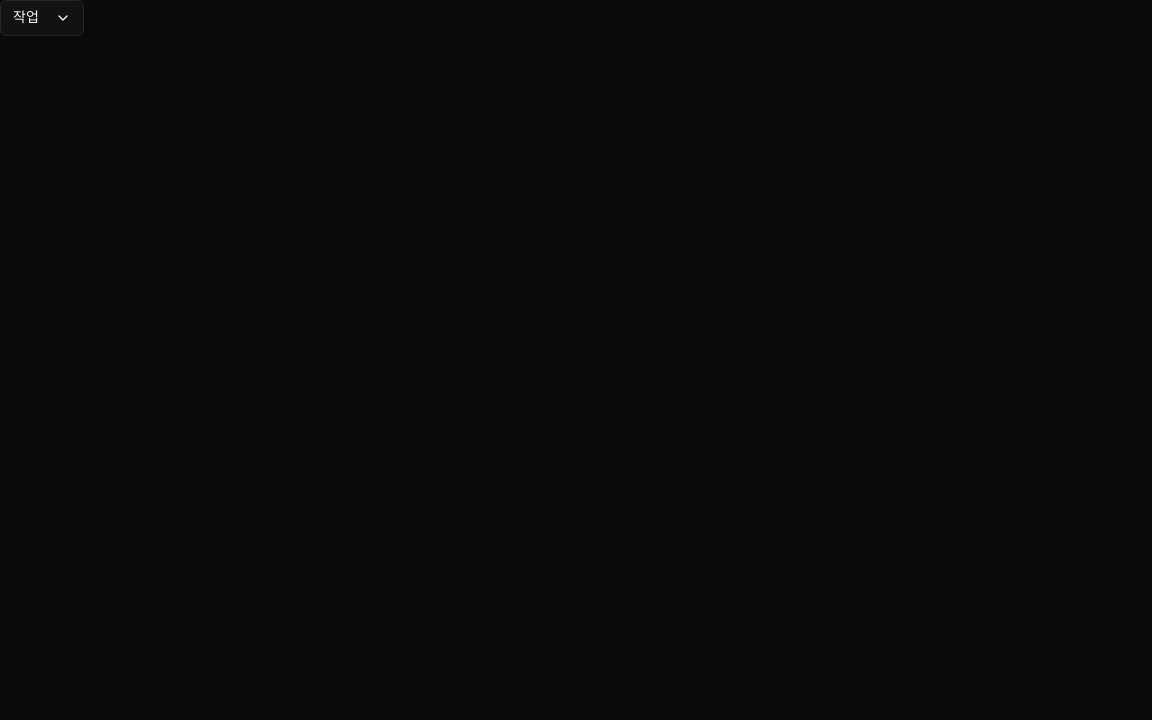
AdministratorsActionsDropdown — 활성 / 회수 / 멤버 부재 분기 › 활성 + 권한 회수 클릭 → 회수 dialog open
Click the button "작업". click: (42, 18)
box: [0, 0, 84, 36]
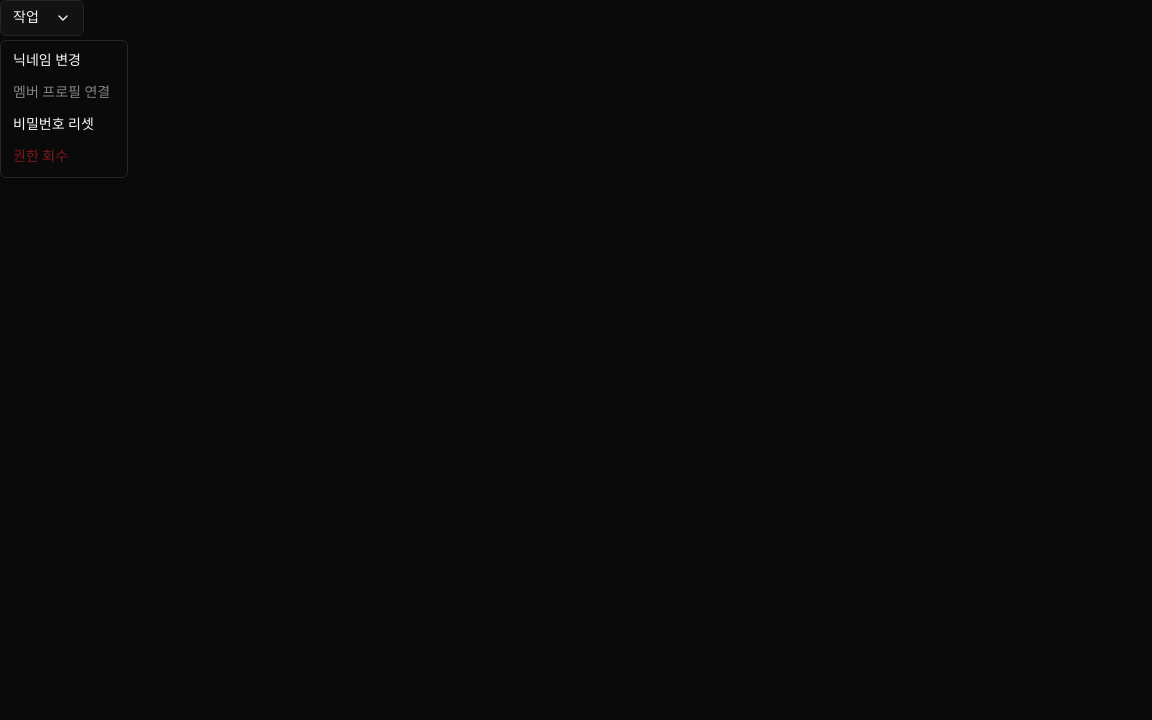
Click the menu item "권한 회수". click: (40, 156)
box: [13, 149, 68, 164]
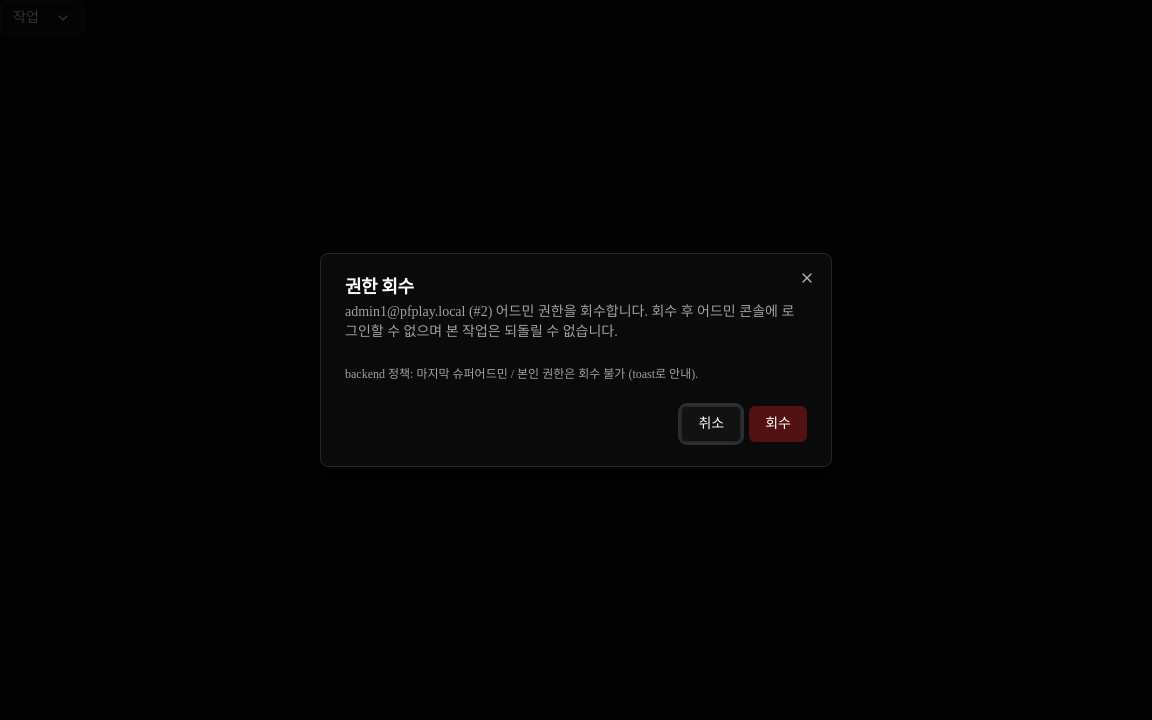
Now the text "권한을 회수합니다" is shown, box [345, 304, 794, 339]
